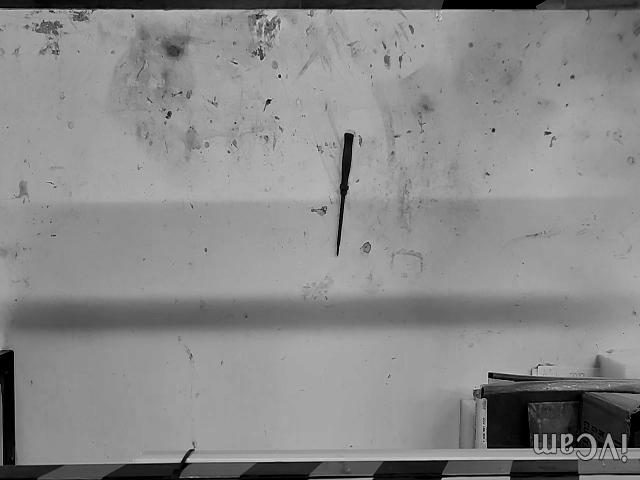Screwdriver: (336, 132, 354, 255)
